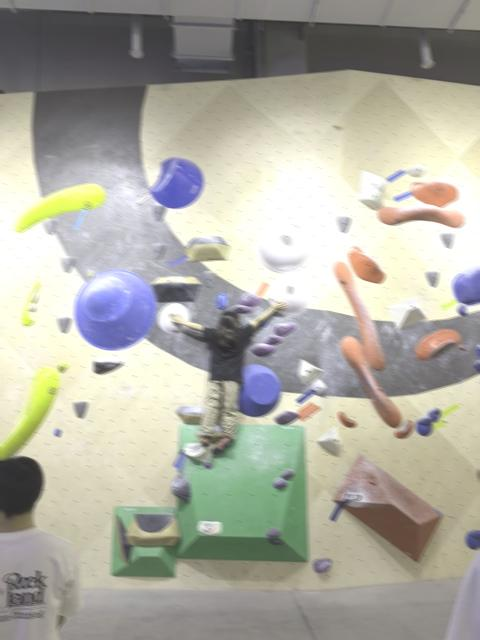crimp: (394, 420, 413, 437), (338, 411, 356, 427), (345, 493, 360, 501)
downhold: (202, 271, 216, 287), (73, 401, 87, 417), (42, 219, 56, 234), (152, 243, 165, 259), (57, 317, 71, 331), (337, 216, 350, 231), (61, 256, 74, 271), (152, 205, 165, 219), (440, 233, 453, 247), (61, 257, 74, 271), (426, 271, 438, 286), (457, 304, 466, 314)
jib: (55, 362, 69, 372), (54, 429, 61, 436), (203, 461, 211, 467), (458, 344, 465, 349)
jug: (170, 475, 190, 502), (360, 171, 384, 191), (359, 188, 382, 208), (92, 358, 122, 373), (274, 410, 300, 423), (237, 292, 261, 305), (416, 416, 432, 435), (182, 443, 204, 456), (274, 322, 296, 335), (251, 343, 274, 355), (465, 530, 480, 547), (404, 164, 426, 175), (312, 379, 326, 395), (263, 335, 282, 344), (427, 408, 440, 421), (272, 478, 287, 487)
ledge: (15, 183, 105, 231), (378, 204, 462, 227), (379, 204, 463, 226), (126, 513, 180, 544), (415, 329, 460, 359), (151, 276, 200, 301), (410, 180, 457, 206), (185, 237, 229, 260), (317, 426, 340, 454), (298, 359, 322, 384)
pinch: (415, 329, 460, 359), (21, 281, 40, 323)
pocket: (258, 221, 311, 271), (269, 273, 310, 312), (158, 302, 189, 333)
sidepull: (333, 261, 385, 370), (340, 336, 401, 426), (0, 366, 58, 459), (150, 157, 202, 207), (348, 247, 384, 282), (115, 516, 132, 561)
sloper: (75, 270, 156, 349), (14, 183, 105, 231), (237, 365, 280, 415), (452, 265, 480, 303)
tape: (330, 498, 349, 521), (298, 402, 320, 421), (173, 449, 186, 472), (73, 209, 87, 229), (296, 389, 314, 403), (439, 403, 458, 416), (167, 255, 188, 266), (386, 169, 405, 181), (393, 191, 412, 201), (136, 191, 150, 204), (441, 298, 456, 309), (431, 419, 446, 429), (256, 282, 267, 295)
volume: (176, 426, 308, 561), (333, 453, 441, 560), (333, 454, 441, 560), (111, 507, 176, 577), (388, 297, 426, 327)
